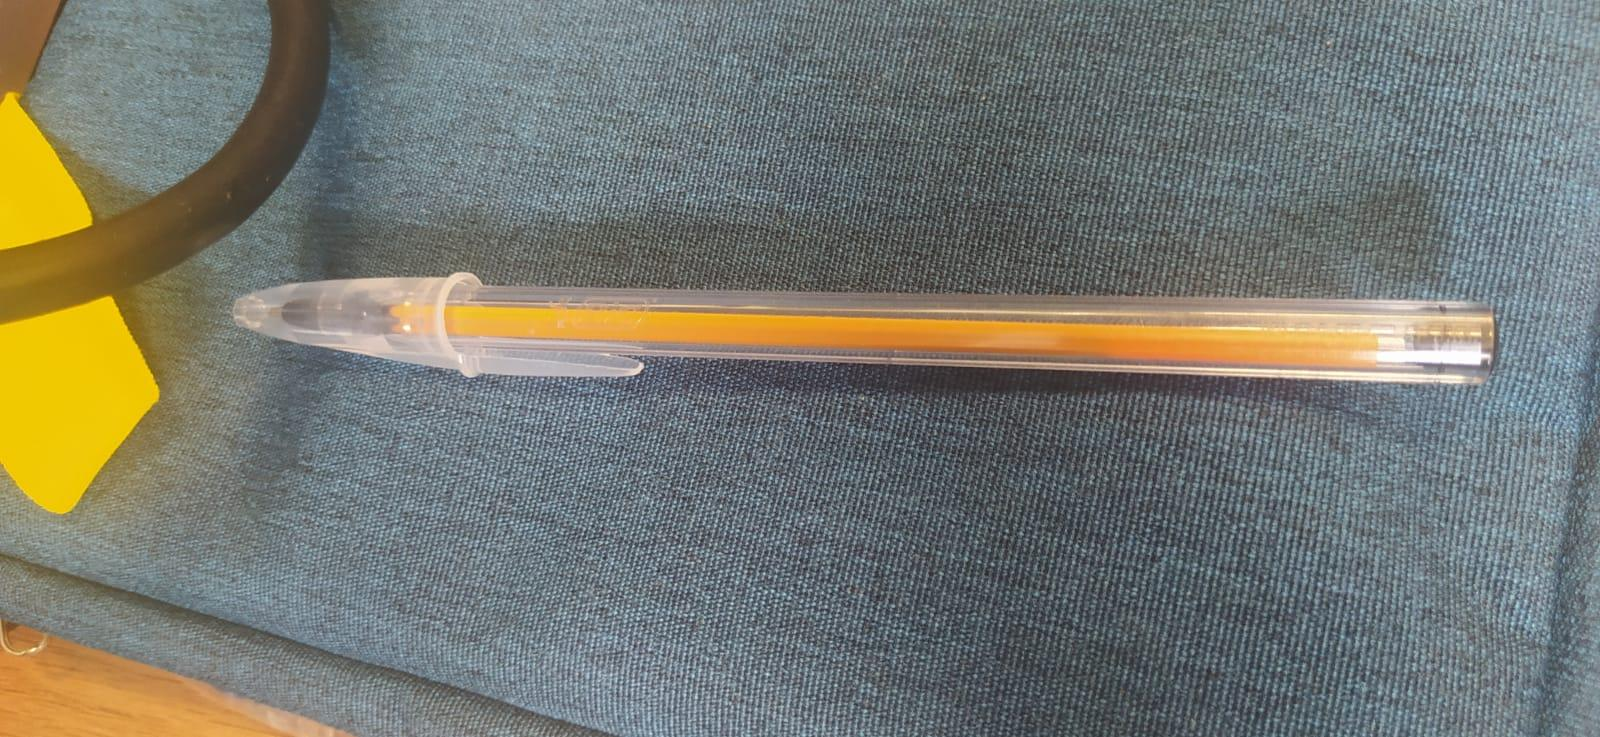pen: (229, 272, 1502, 392)
